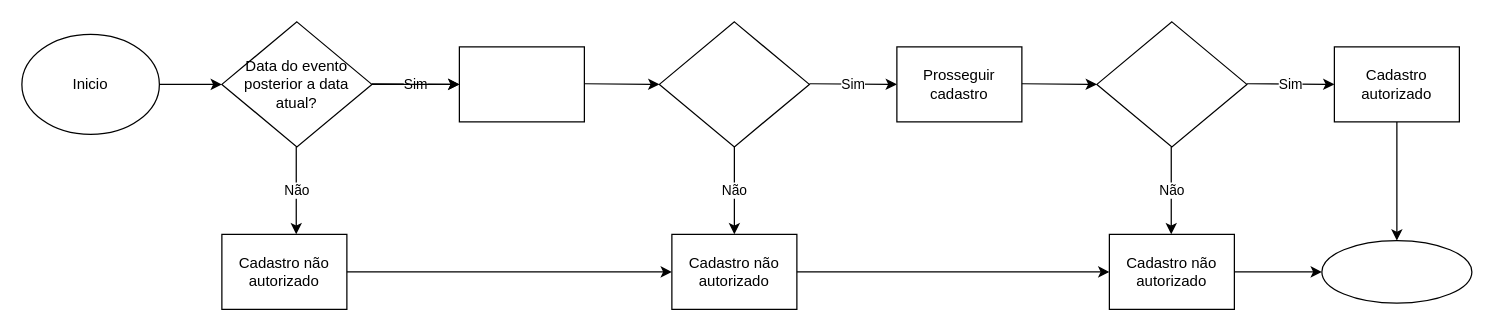
This 1494x331 diagram has some shape labels left out. Each missing label, with the box of its shape:
Fim: (1321, 239, 1472, 303)
Idade superior a 18 anos?: (658, 21, 809, 147)
Informe a data do participante: (458, 46, 584, 122)
Quantidade de participantes inferior a 100 ?: (1096, 21, 1247, 147)
